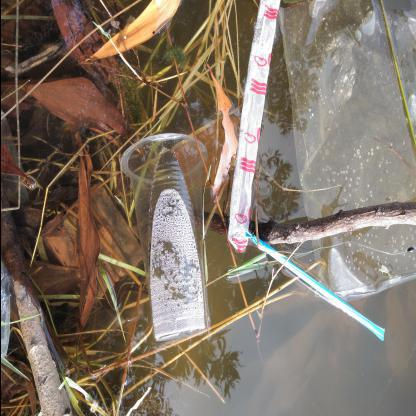plastik: (119, 133, 211, 342), (226, 2, 281, 254)
